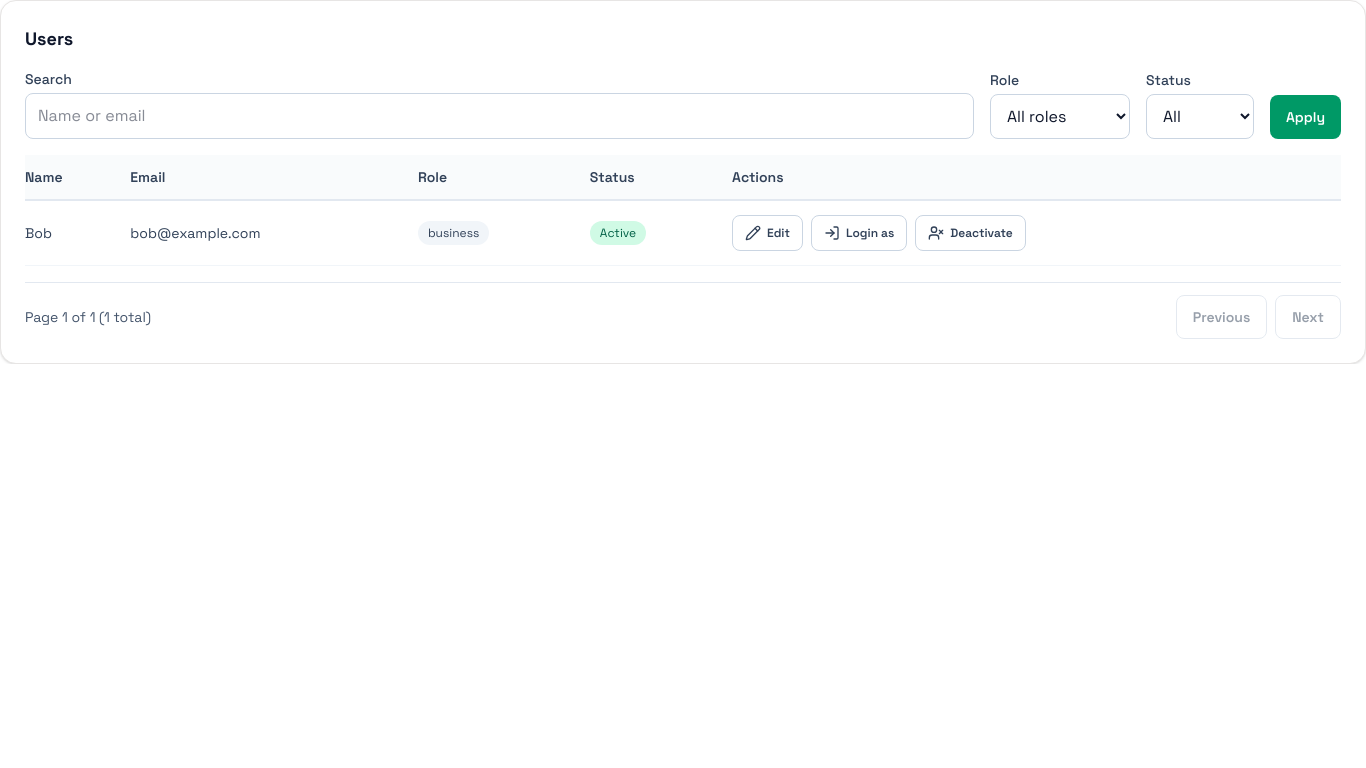
Test: UsersPage › opens deactivate confirmation and can cancel
Click the button "Deactivate": point(970, 233) [915,215,1026,251]
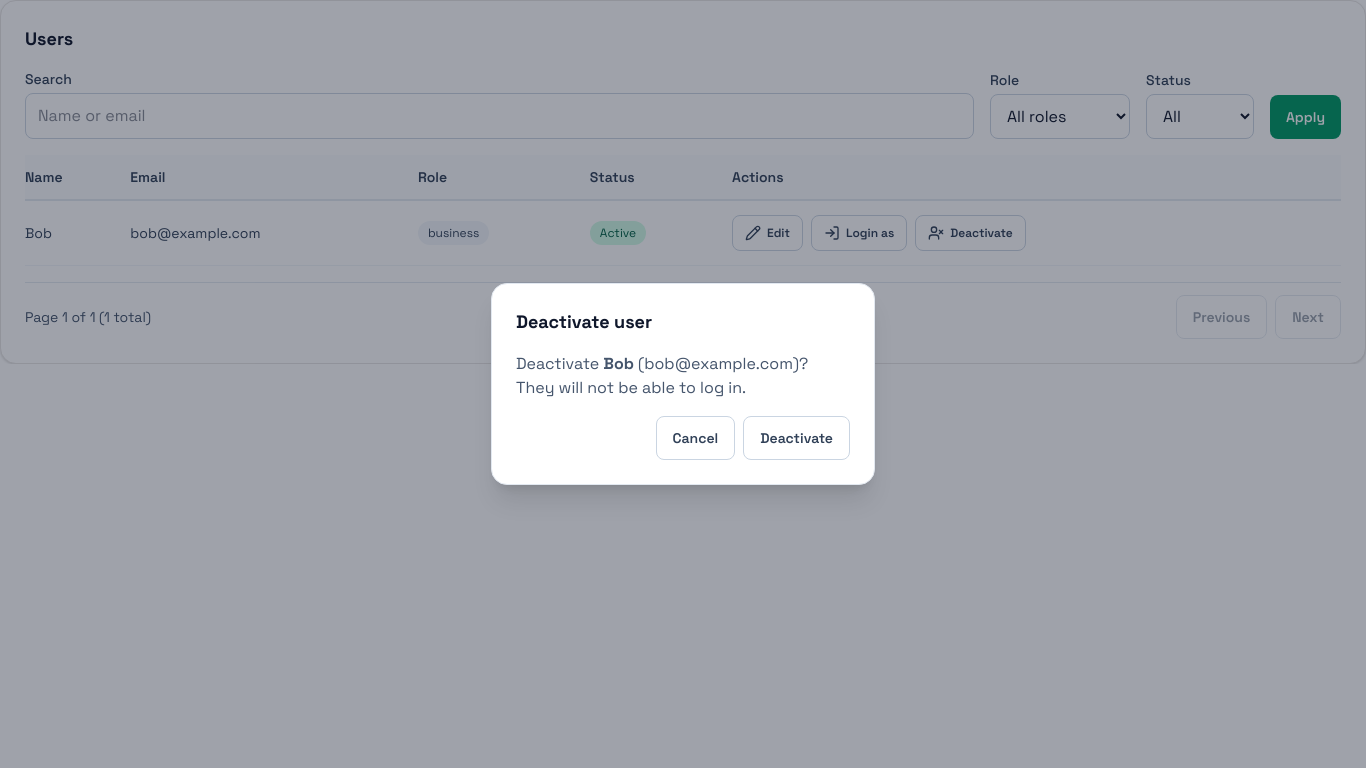
Check: the dialog "Deactivate user" is shown
Check: the text "Bob" is shown, box [603,353,634,374]
Check: the text "bob@example.com" is shown, box [644,353,793,374]
Click the button "Cancel": point(695, 438) [656,416,735,460]
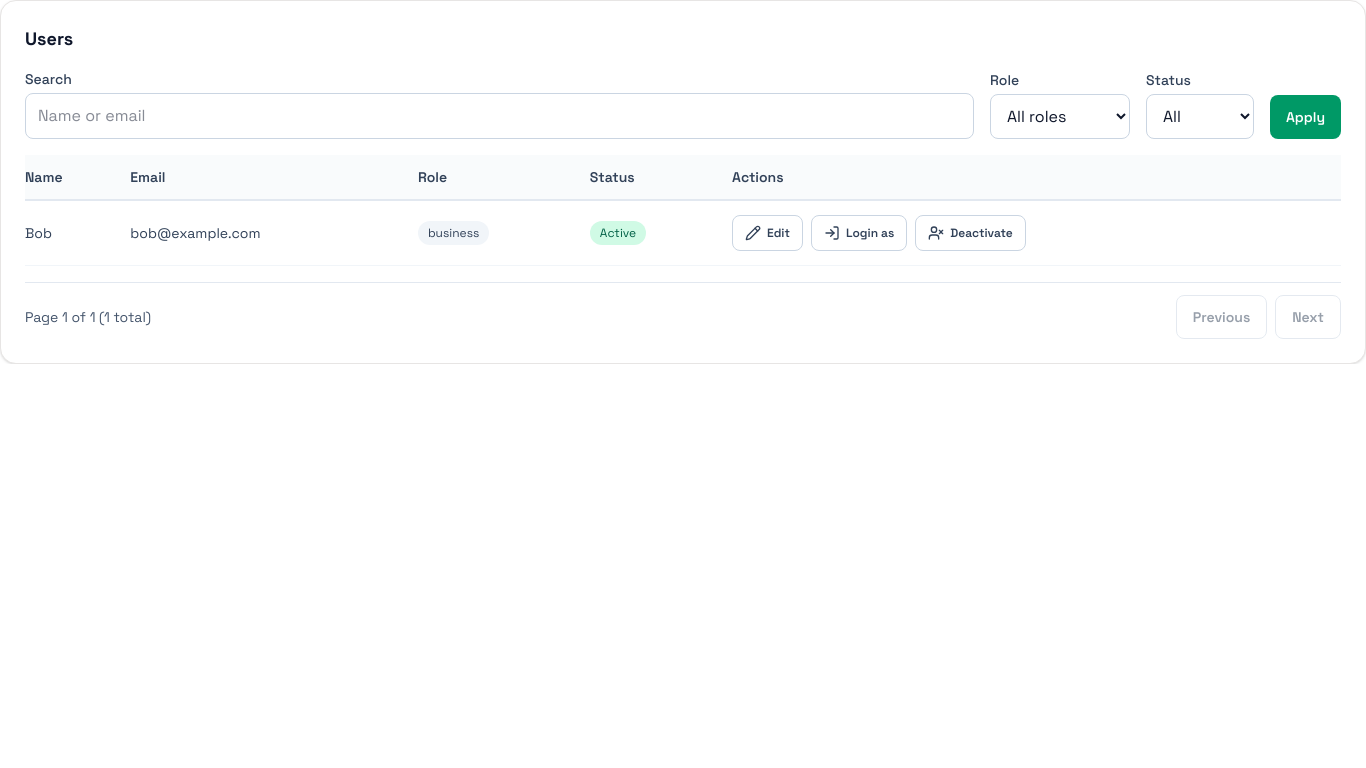
Check: the heading "Deactivate user" is gone
